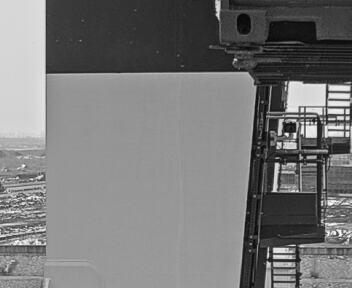twist_lock_1: (218, 38, 269, 77)
